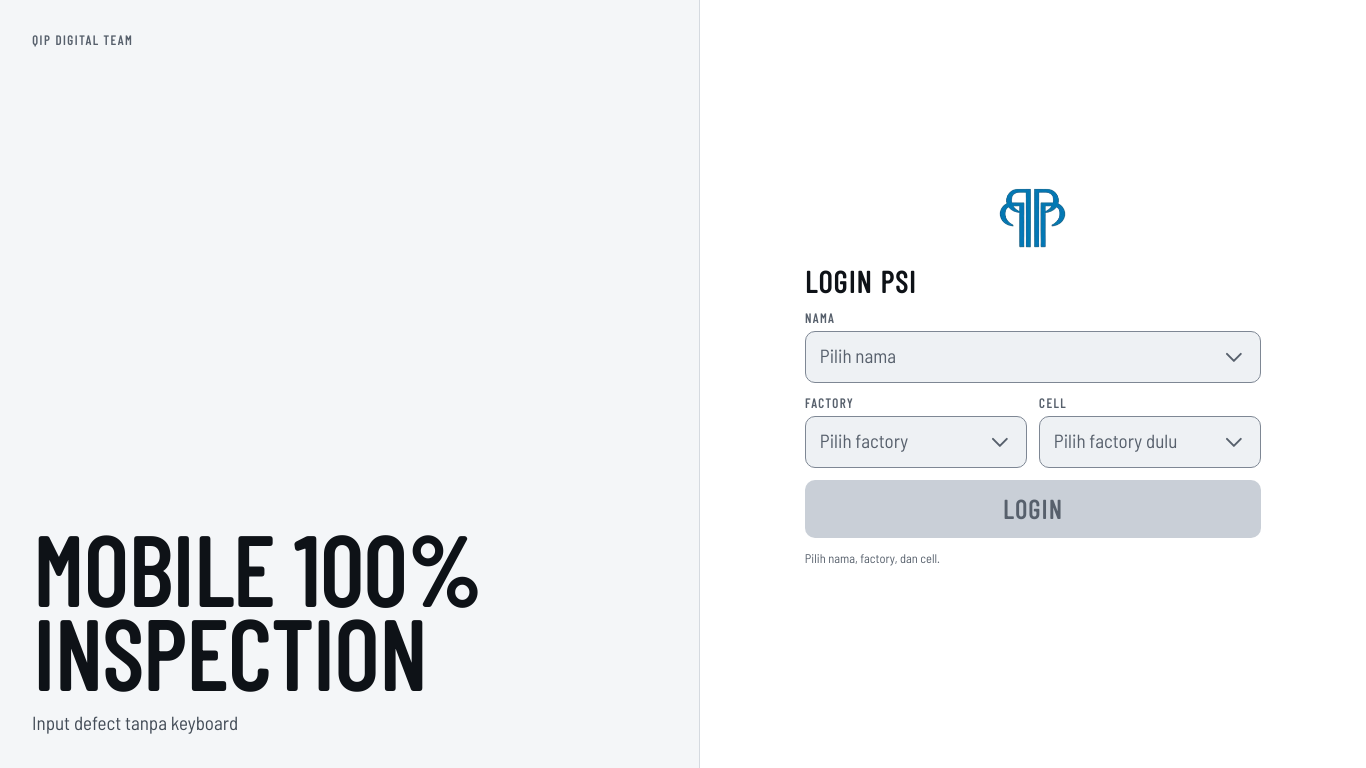
LoginScreen (doc 05 §7) › enables LOGIN only when name, factory and cell are chosen, with a hint until then
Expected: the button "LOGIN" is disabled, left=805, top=480, right=1261, bottom=538
Expected: the text "Pilih nama, factory, dan cell." is shown, left=805, top=550, right=940, bottom=566
Click the button "Pilih nama" at (858, 356), box left=805, top=331, right=1261, bottom=383
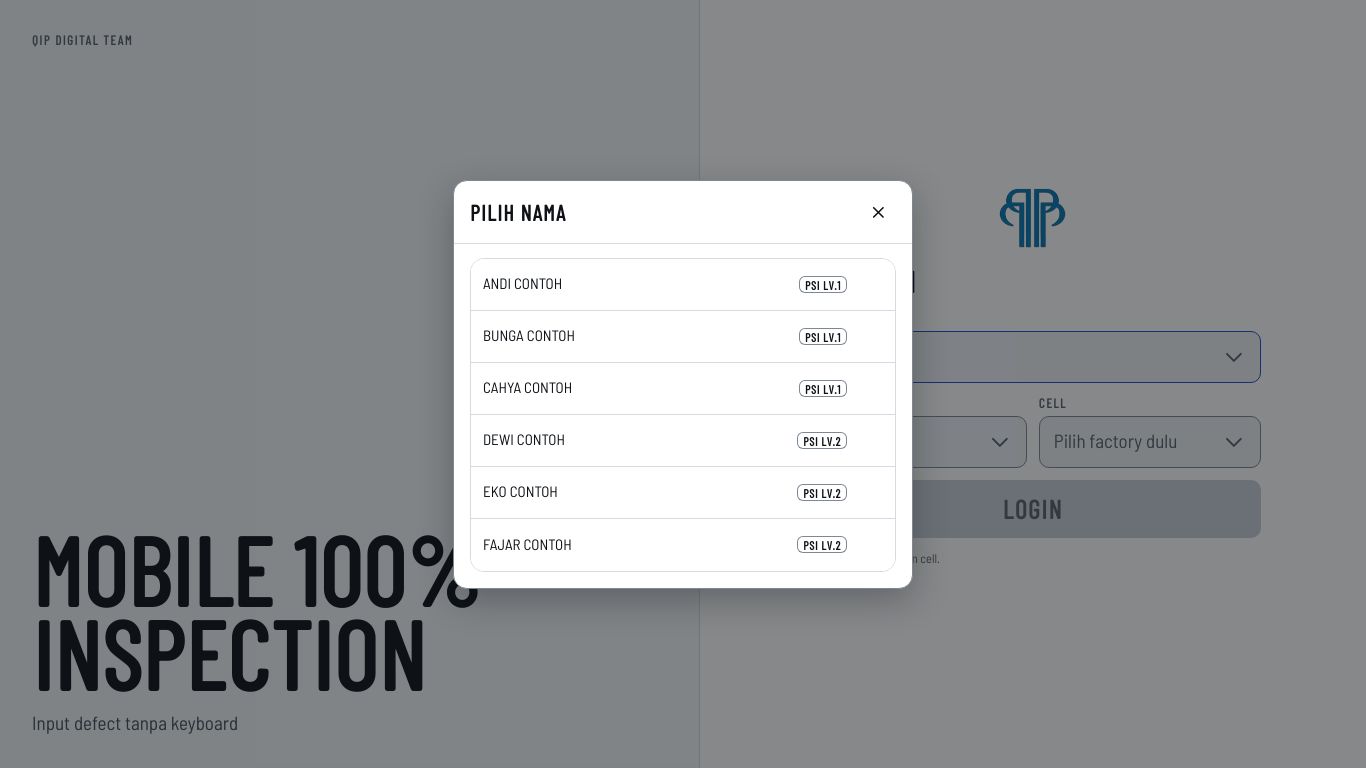
Click the option "DEWI CONTOH PSI lv.2" at (524, 439), box left=471, top=414, right=895, bottom=466
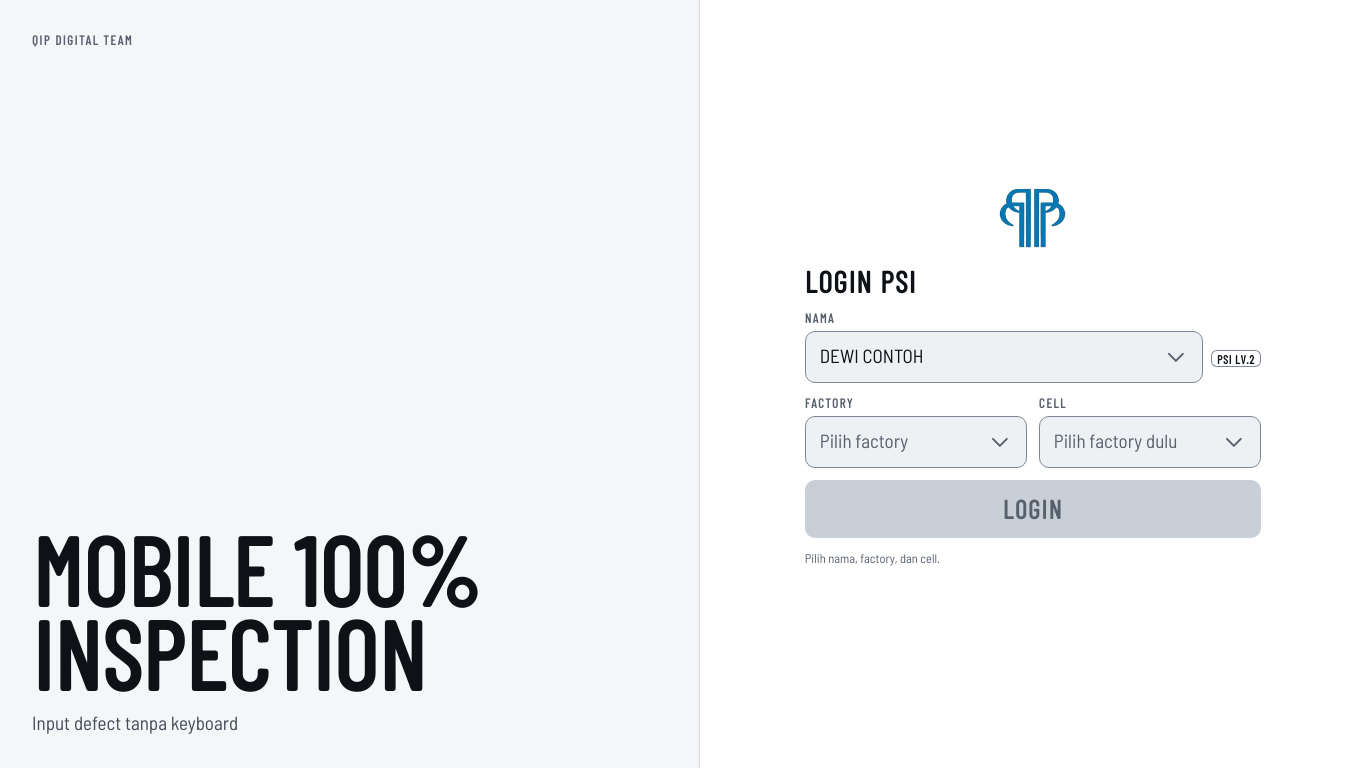
Expected: the button "LOGIN" is disabled, left=805, top=480, right=1261, bottom=538
Click the button "Pilih factory" at (916, 442), box left=805, top=416, right=1027, bottom=468
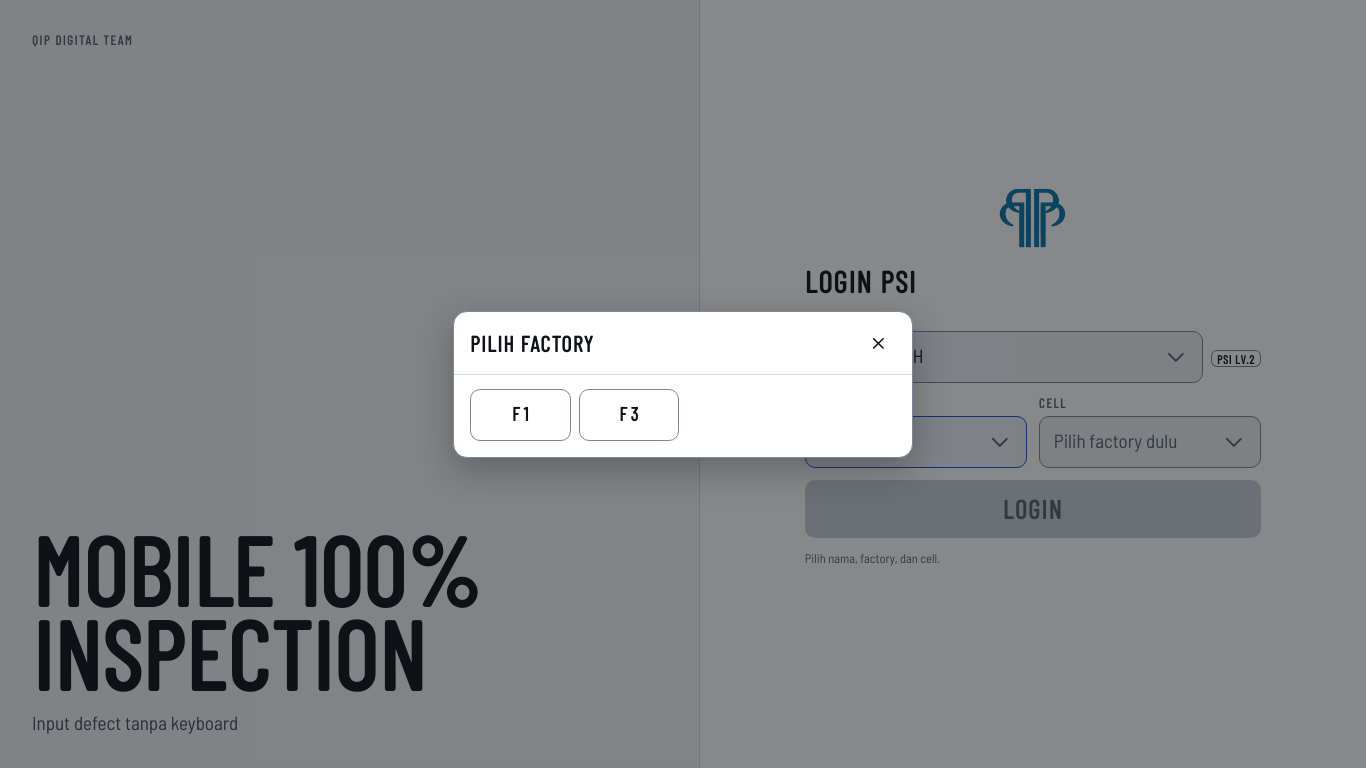
Click the option "F 3" at (629, 414), box left=578, top=388, right=679, bottom=440
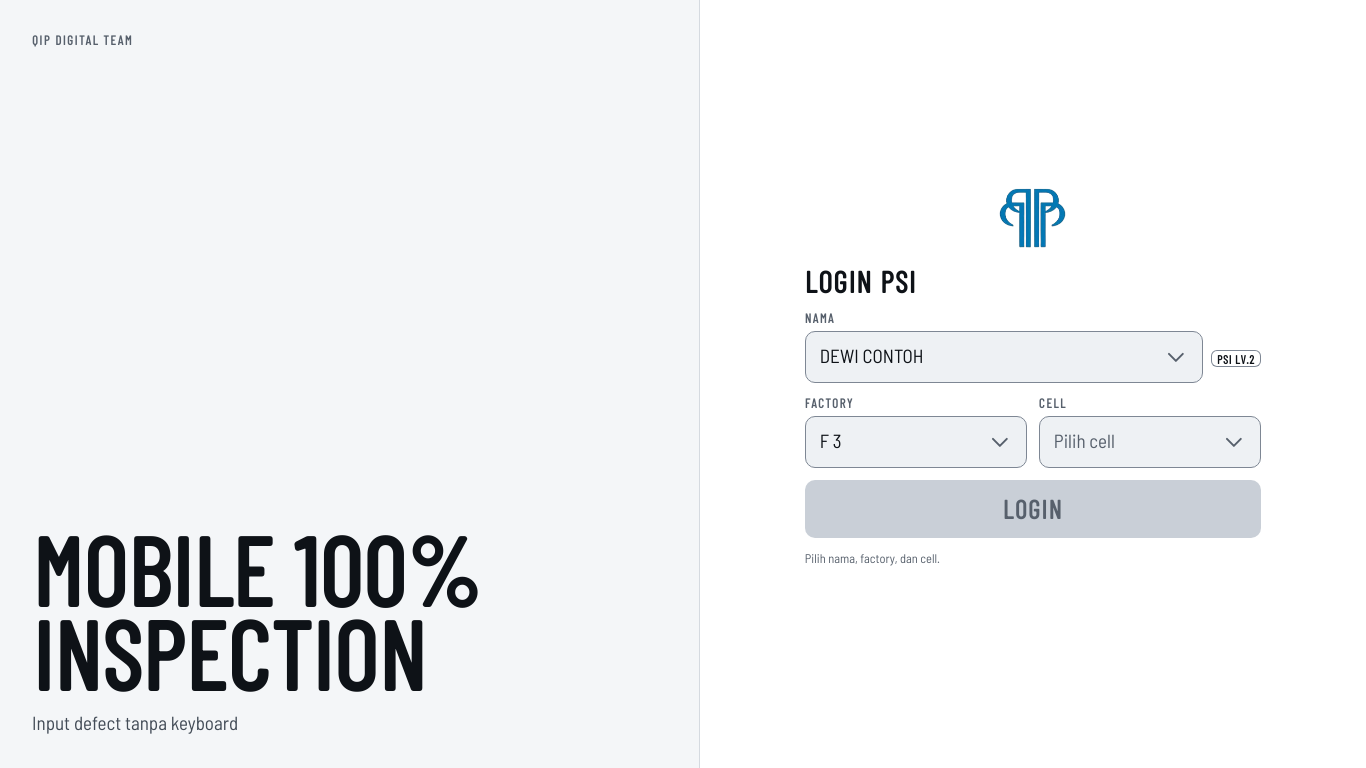
Expected: the button "LOGIN" is disabled, left=805, top=480, right=1261, bottom=538
Click the button "Pilih cell" at (1150, 442), box left=1039, top=416, right=1261, bottom=468
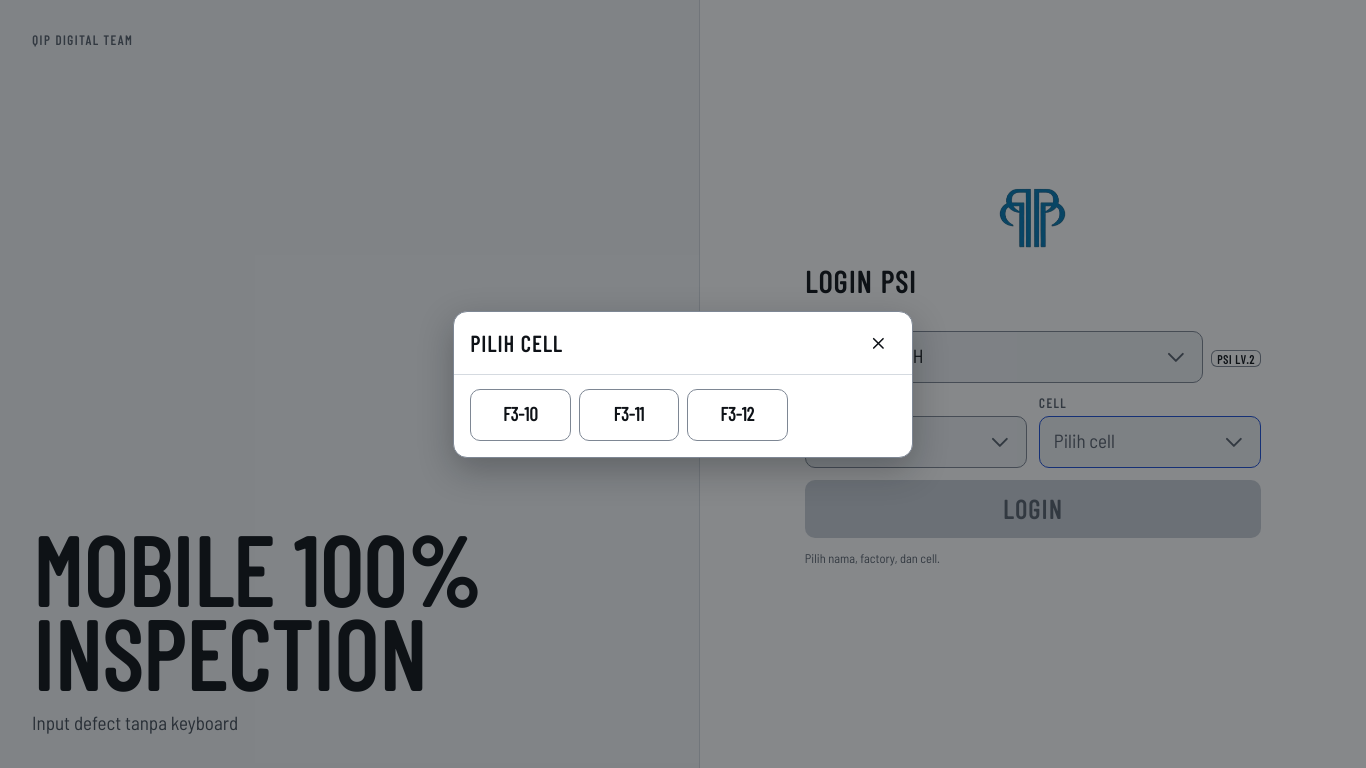
Click the option "F3-12" at (737, 414), box left=687, top=388, right=788, bottom=440
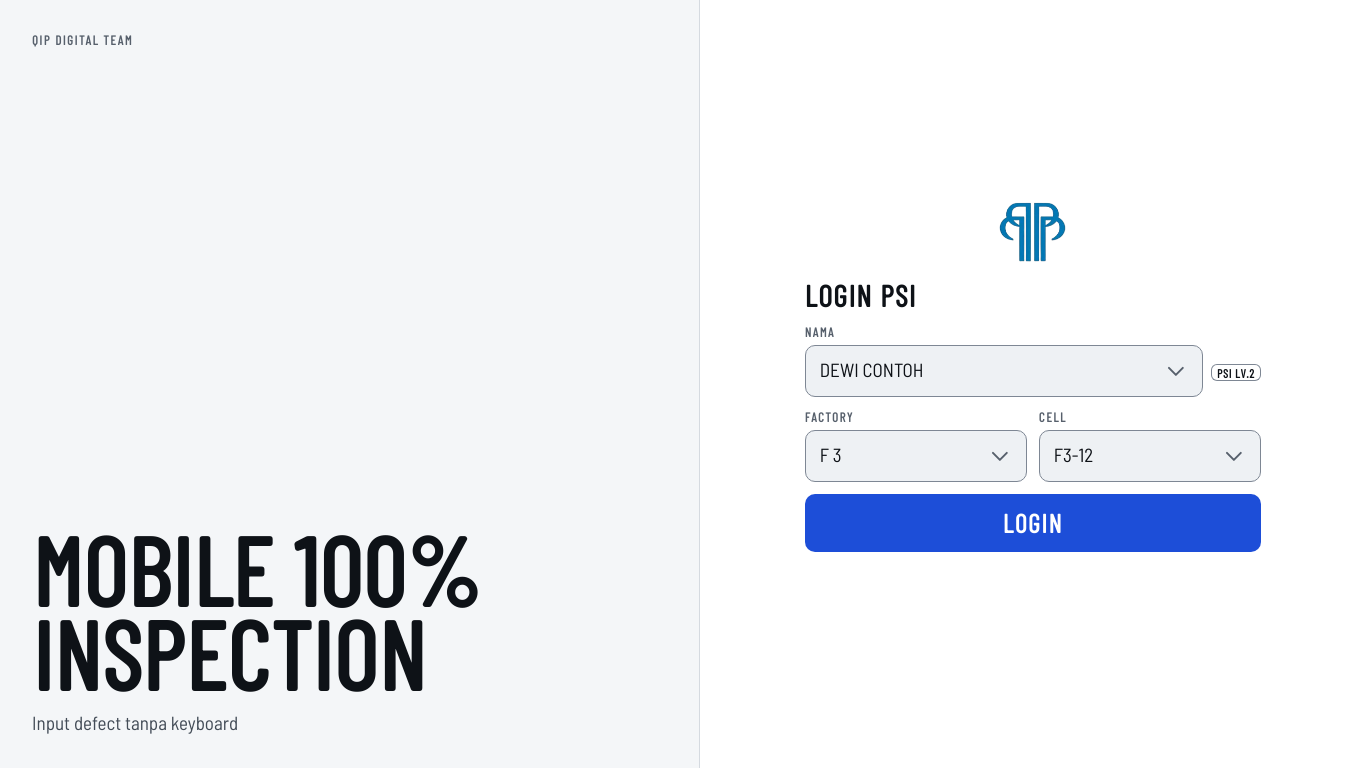
Expected: the button "LOGIN" is enabled, left=805, top=494, right=1261, bottom=552
Expected: the text "Pilih nama, factory, dan cell." is gone
